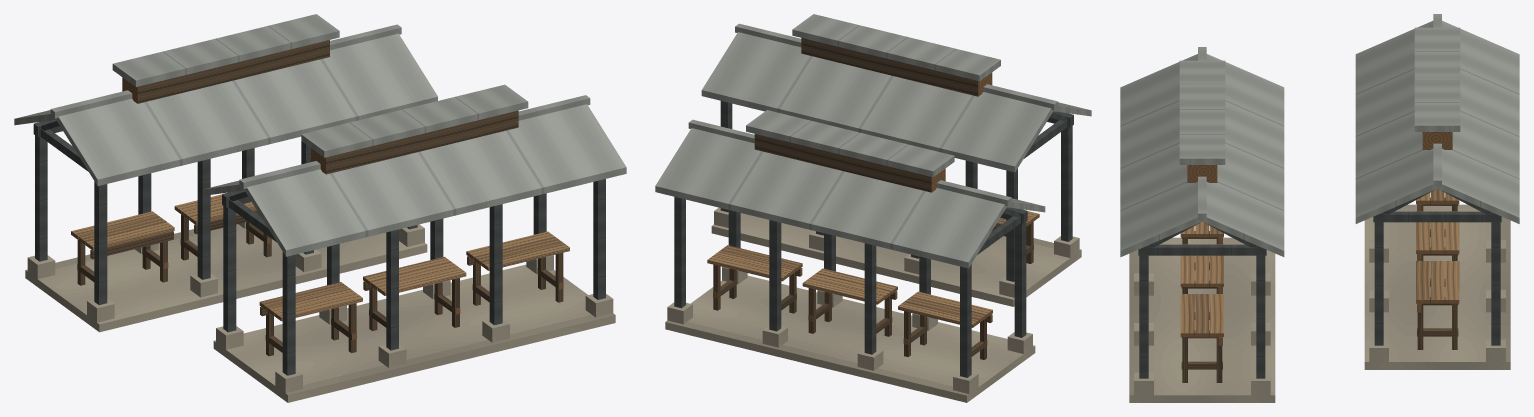
3 views of the same model, side by side, from view 1: azimuth 30°, elevation 25°; view 2: azimuth 150°, elevation 25°; view 3: azimuth 270°, elevation 25° (orthographic). The views are drawn at different scales.
Visible parts, largest first — view 1: jos; view 2: jos; view 3: jos.
Part boxes in pixels (left/top/right/bottom): jos: left=14, top=14, right=626, bottom=402; jos: left=655, top=14, right=1091, bottom=402; jos: left=1120, top=14, right=1519, bottom=402.
Size of the model in its own units: 4.59 by 2.3 by 3.88.
1 material, 1 textured.
